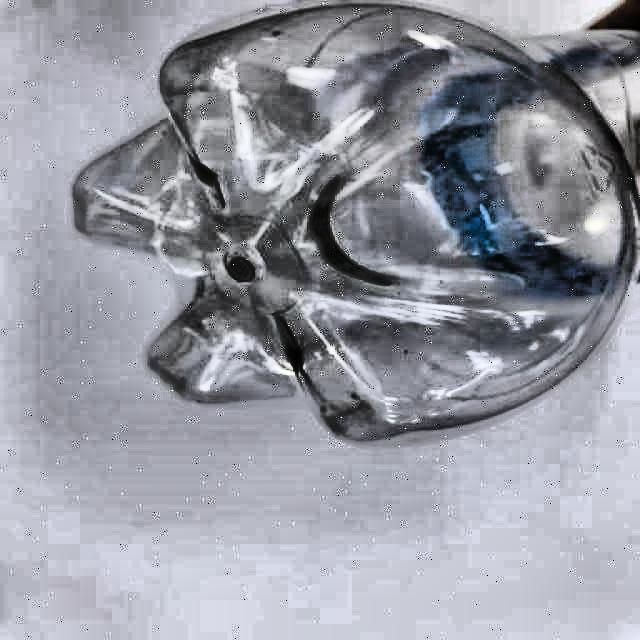plastic: (72, 5, 640, 441)
